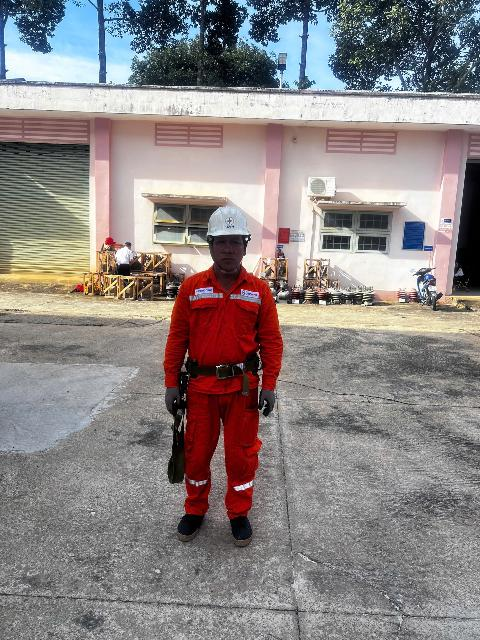gloves: (154, 382, 186, 419), (256, 386, 282, 421)
harness: (169, 343, 282, 384)
helmet: (199, 198, 252, 242)
shoes: (162, 502, 208, 545), (224, 509, 257, 550)
